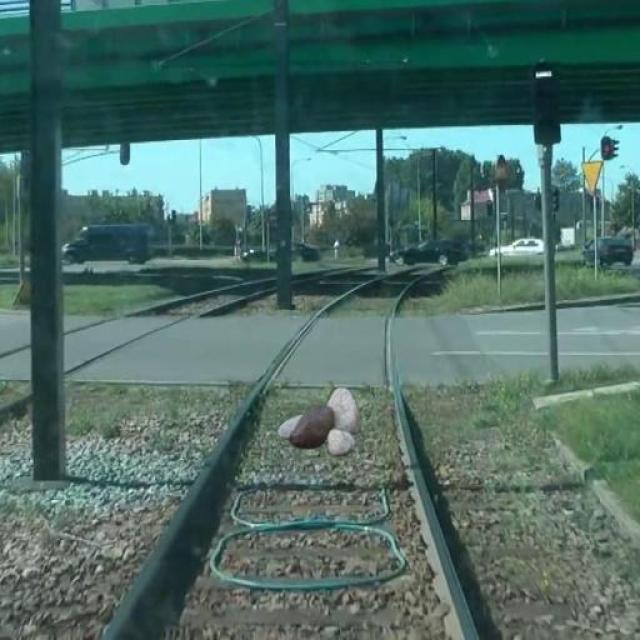Stone: (277, 377, 368, 459)
